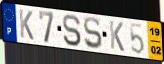5: (129, 22, 146, 56)
7: (38, 10, 55, 44)
K: (18, 8, 35, 42), (109, 20, 126, 53)
S: (82, 16, 104, 51), (62, 14, 83, 48)
